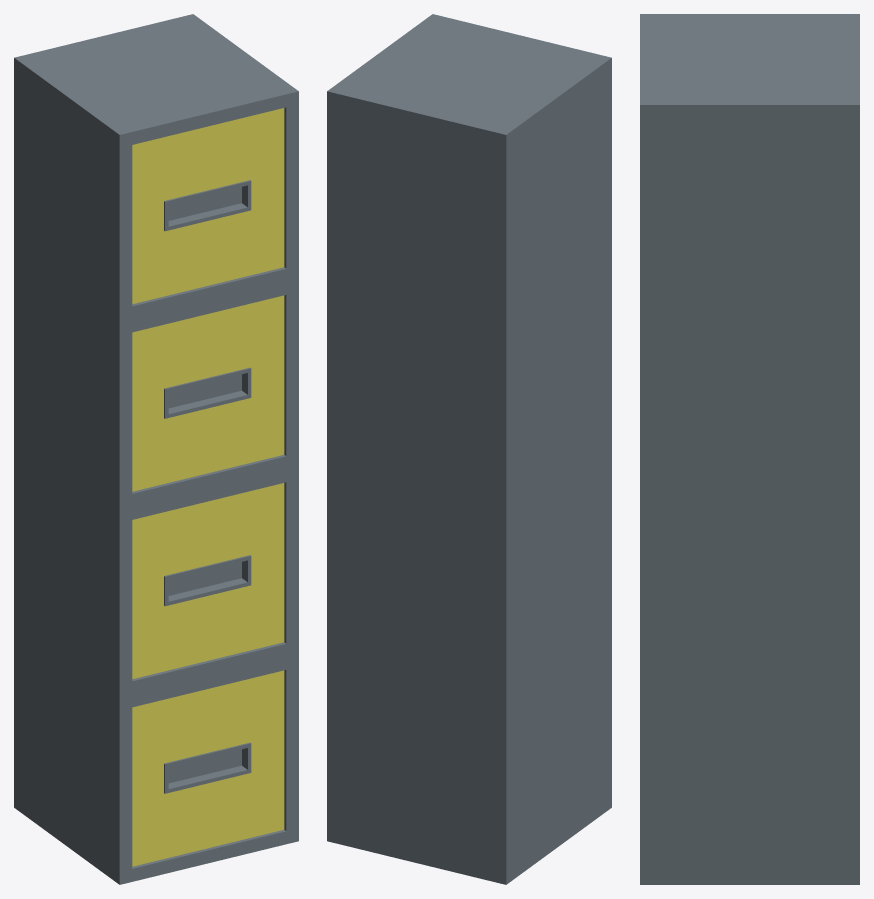
Rendered from file cabin.fbx.
3 renders of one model, left to right at view 1: azimuth 30°, elevation 25°; view 2: azimuth 150°, elevation 25°; view 3: azimuth 270°, elevation 25°, orthographic. The views are drawn at different scales.
Visible parts, largest first — view 1: Cube; view 2: Cube; view 3: Cube.
Boxes of the visible parts, x1,y1,x2,y2 form: Cube: (14, 14, 298, 884); Cube: (327, 14, 611, 884); Cube: (640, 14, 859, 884).
Bounding box in the file's own units: 200 × 800 × 204.
